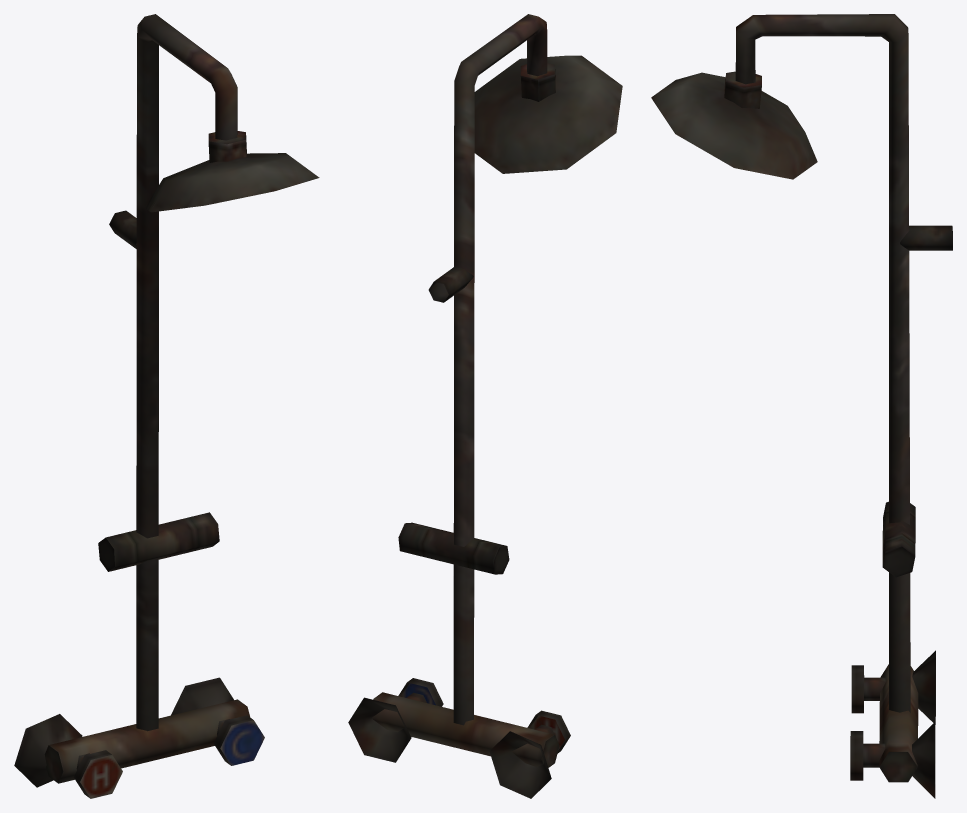
File: mi_linyu001.FBX
3 renders of one model, left to right at view 1: azimuth 30°, elevation 25°; view 2: azimuth 150°, elevation 25°; view 3: azimuth 270°, elevation 25°, orthographic. The views are drawn at different scales.
Visible parts, largest first — view 1: mi_linyu001; view 2: mi_linyu001; view 3: mi_linyu001.
Boxes of the visible parts, <box> form: mi_linyu001: <box>14,14,319,798</box>; mi_linyu001: <box>348,14,622,798</box>; mi_linyu001: <box>651,14,952,798</box>.
Size of the model in its own units: 0.418 by 1.37 by 0.5063.
Materials: 1 (1 with a texture image).
